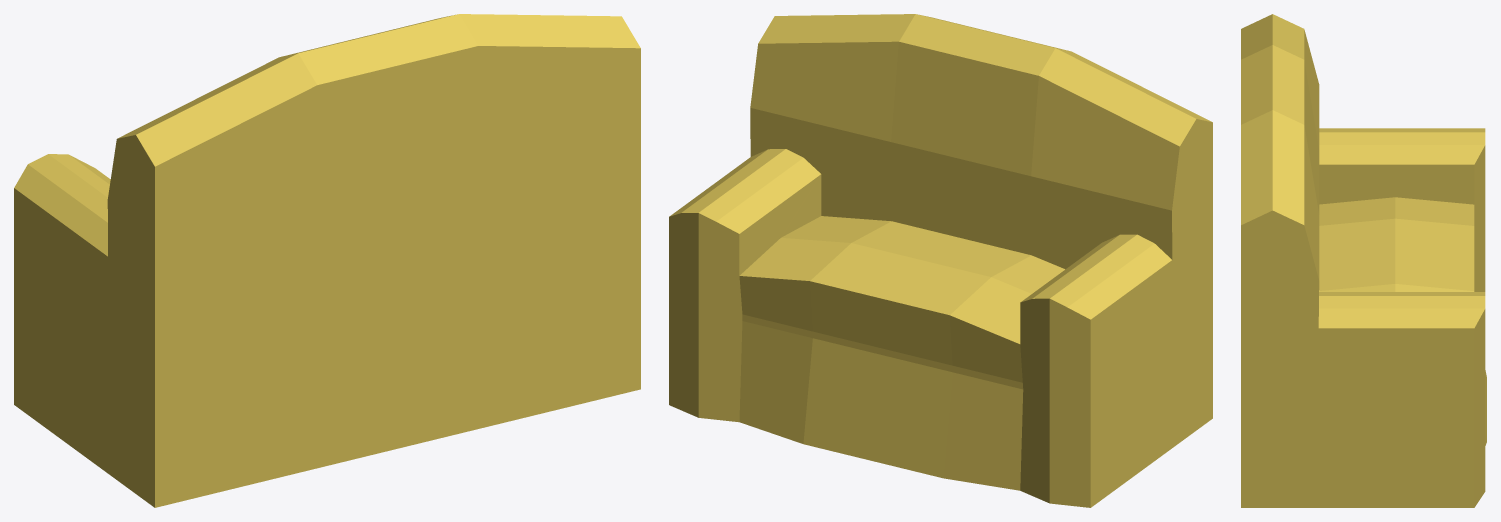
Rendered from Sofa.fbx.
3 views of the same model, side by side, from view 1: azimuth 30°, elevation 25°; view 2: azimuth 150°, elevation 25°; view 3: azimuth 270°, elevation 25° (orthographic). The views are drawn at different scales.
Parts seen in each view (by area): view 1: Sofa; view 2: Sofa; view 3: Sofa.
Part boxes in pixels (bbox=[...]): Sofa: bbox=[14, 14, 640, 507]; Sofa: bbox=[669, 14, 1212, 507]; Sofa: bbox=[1241, 14, 1486, 507].
Bounding box in the file's own units: 603 × 476 × 319.
